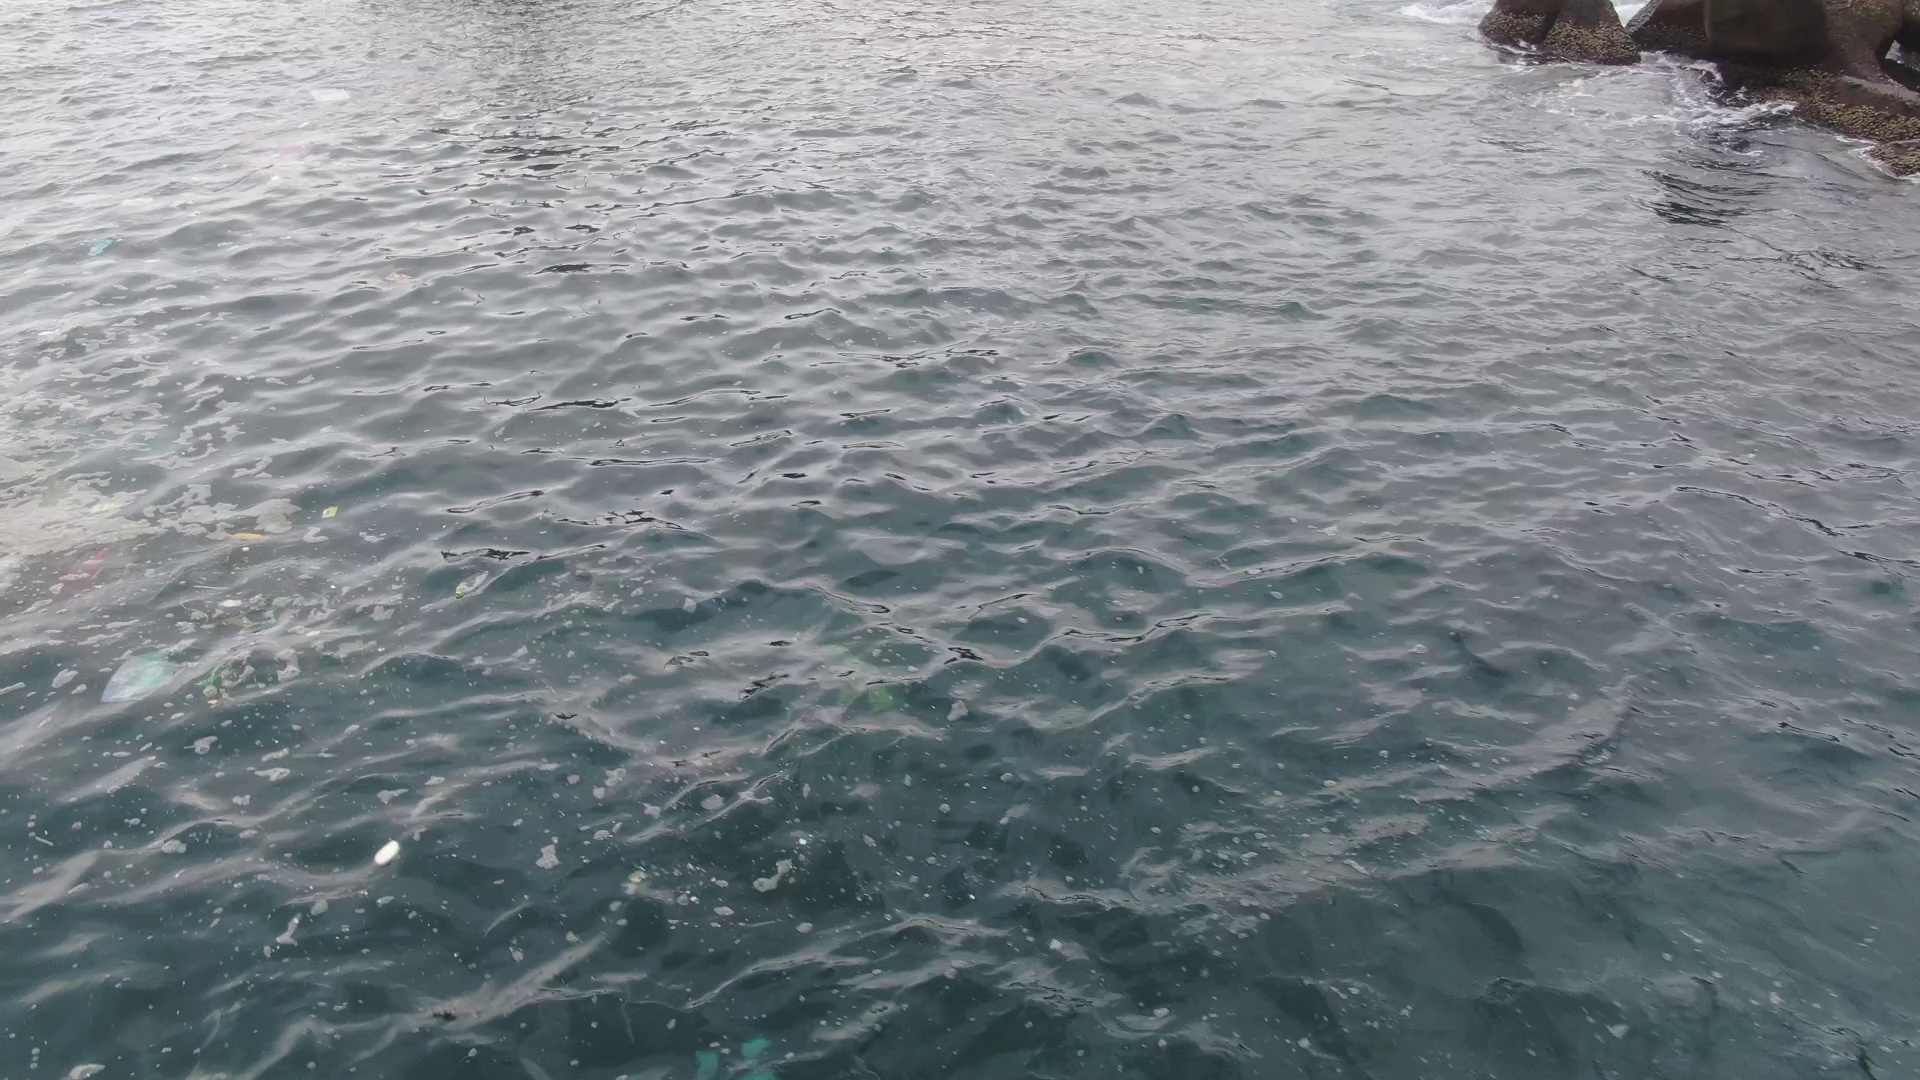bottle: (448, 564, 491, 599)
garbage: (51, 504, 345, 704), (310, 88, 352, 102), (87, 236, 113, 256)
